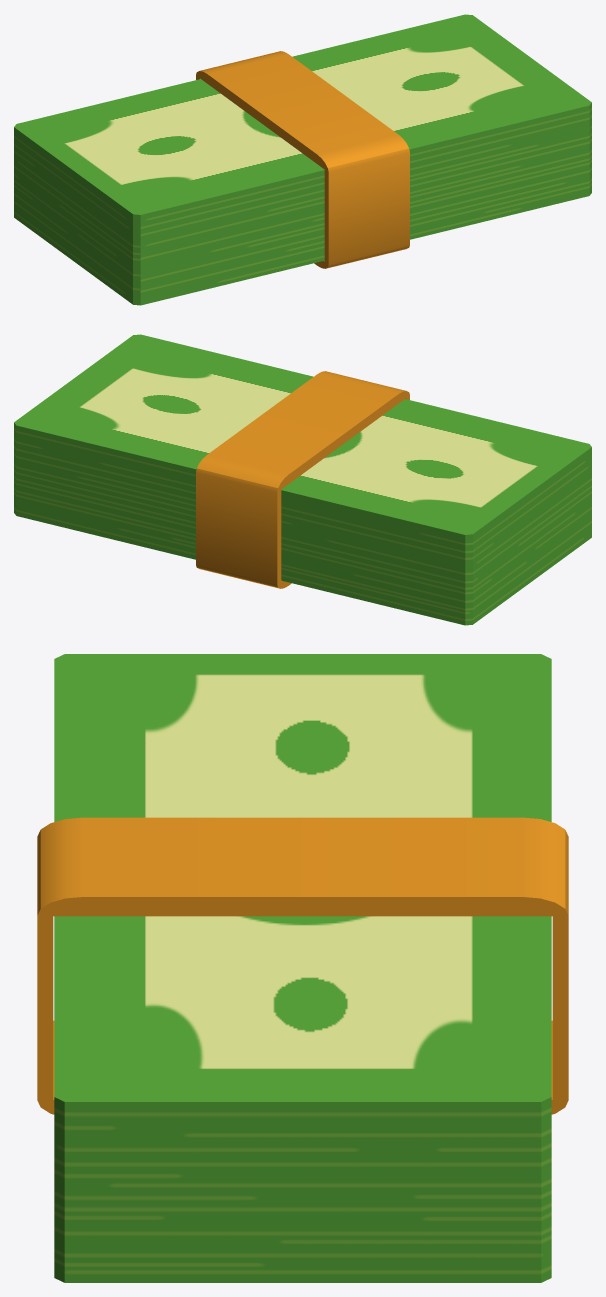
File: moneybin.fbx
3 views of the same model, one above another, from view 1: azimuth 30°, elevation 25°; view 2: azimuth 150°, elevation 25°; view 3: azimuth 270°, elevation 25° (orthographic). The views are drawn at different scales.
Parts seen in each view (by area): view 1: monetbin; view 2: monetbin; view 3: monetbin.
Part boxes in pixels (box(x1,y1,x2,y2)): monetbin: box(14, 14, 591, 305); monetbin: box(14, 334, 591, 625); monetbin: box(37, 654, 568, 1282).
Bounding box in the file's own units: 78.49 × 18.18 × 39.37.
